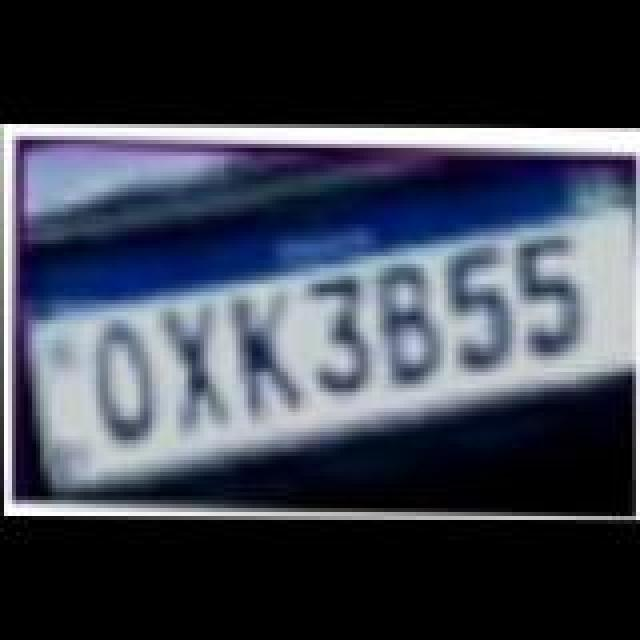3: (300, 276, 384, 400)
5: (440, 248, 524, 372), (514, 232, 594, 360)
B: (372, 264, 456, 388)
K: (228, 292, 312, 424)
O: (90, 320, 162, 448)
X: (158, 302, 238, 438)
